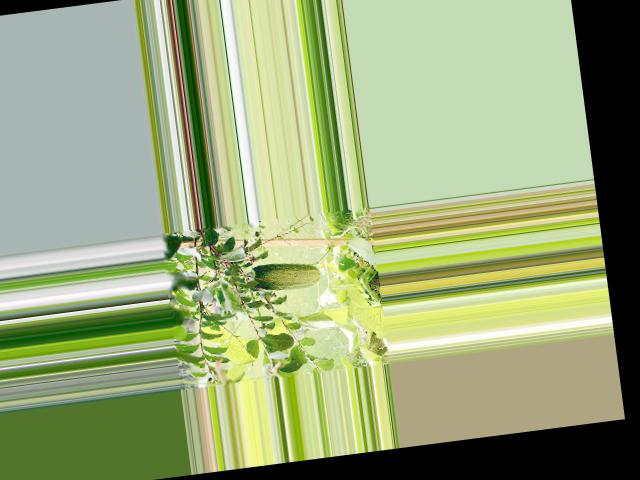cucumber: (243, 256, 322, 294)
